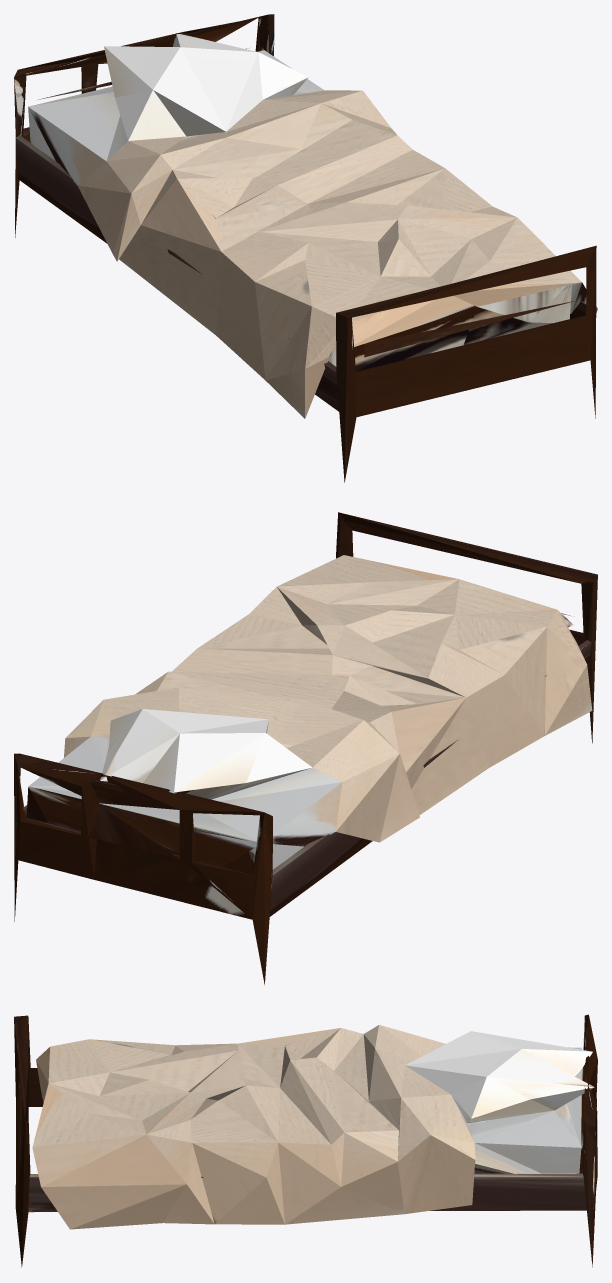
File: Bed_Player.fbx
3 renders of one model, top to bottom at view 1: azimuth 30°, elevation 25°; view 2: azimuth 150°, elevation 25°; view 3: azimuth 270°, elevation 25°, orthographic. The views are drawn at different scales.
Visible parts, largest first — view 1: Mesh_0; view 2: Mesh_0; view 3: Mesh_0.
Part boxes in pixels (<box>): Mesh_0: <box>14,14,597,482</box>; Mesh_0: <box>14,512,597,984</box>; Mesh_0: <box>14,1014,597,1267</box>.
Size of the model in its own units: 105 by 65 by 205.
1 material, 1 textured.
